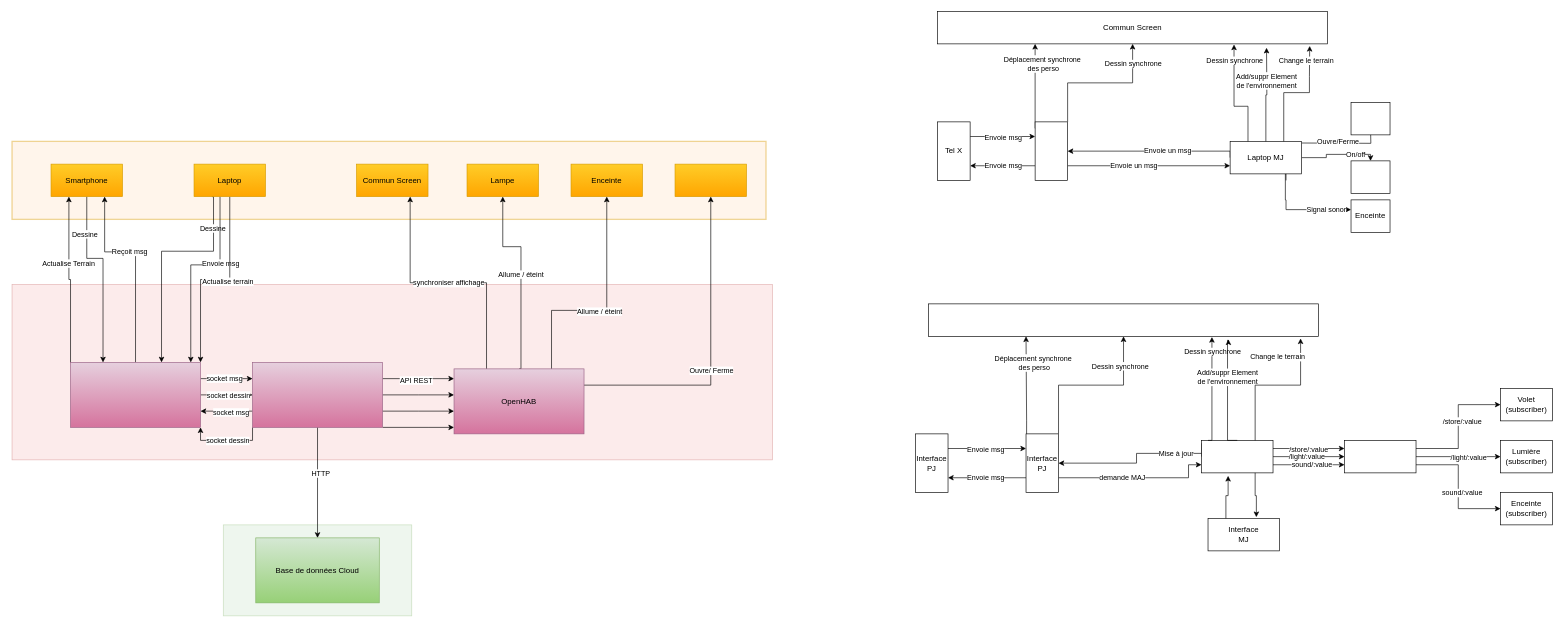
Image size: 1564x632. Some labels were removed from this diagram. Here are the shapes that lost their labels. From the top down, the centre of each, then its label:
the point at 1370,118: Volet
the point at 1051,150: Tél 1
the point at 710,180: Store
the point at 1370,176: Lumière
the point at 1123,319: Interface commune
the point at 135,394: APK ReactJS
the point at 317,394: Server NodeJS monoblock
the point at 1237,456: Server (publisher MQTT)
the point at 1380,456: Broker MQTT (mosquito)
